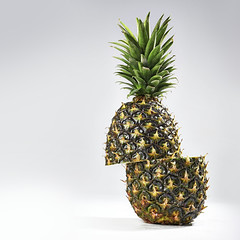Pineapple: (105, 10, 208, 227)
